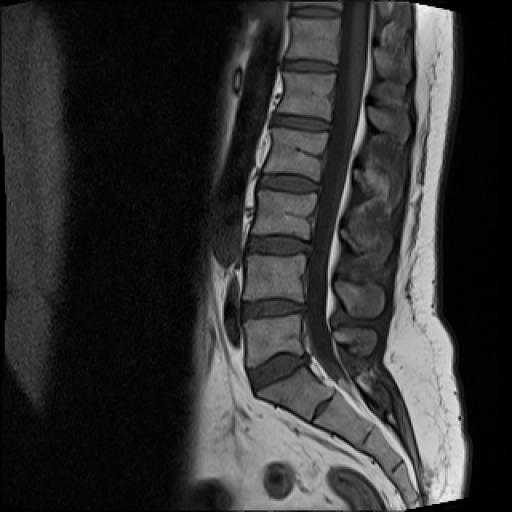L1: (277, 72, 336, 120)
L2: (262, 127, 326, 186)
L3: (252, 192, 316, 240)
L4: (244, 255, 304, 302)
L5: (244, 314, 304, 366)
S1: (257, 366, 332, 420)
